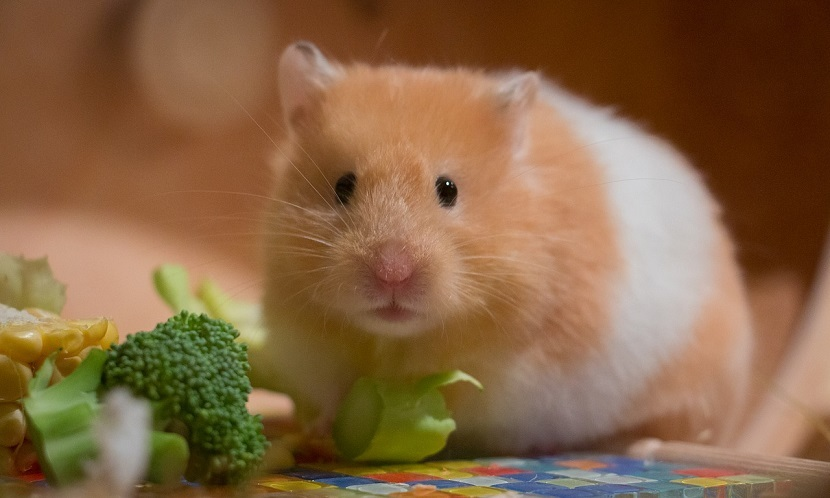mouse: (250, 31, 765, 434)
